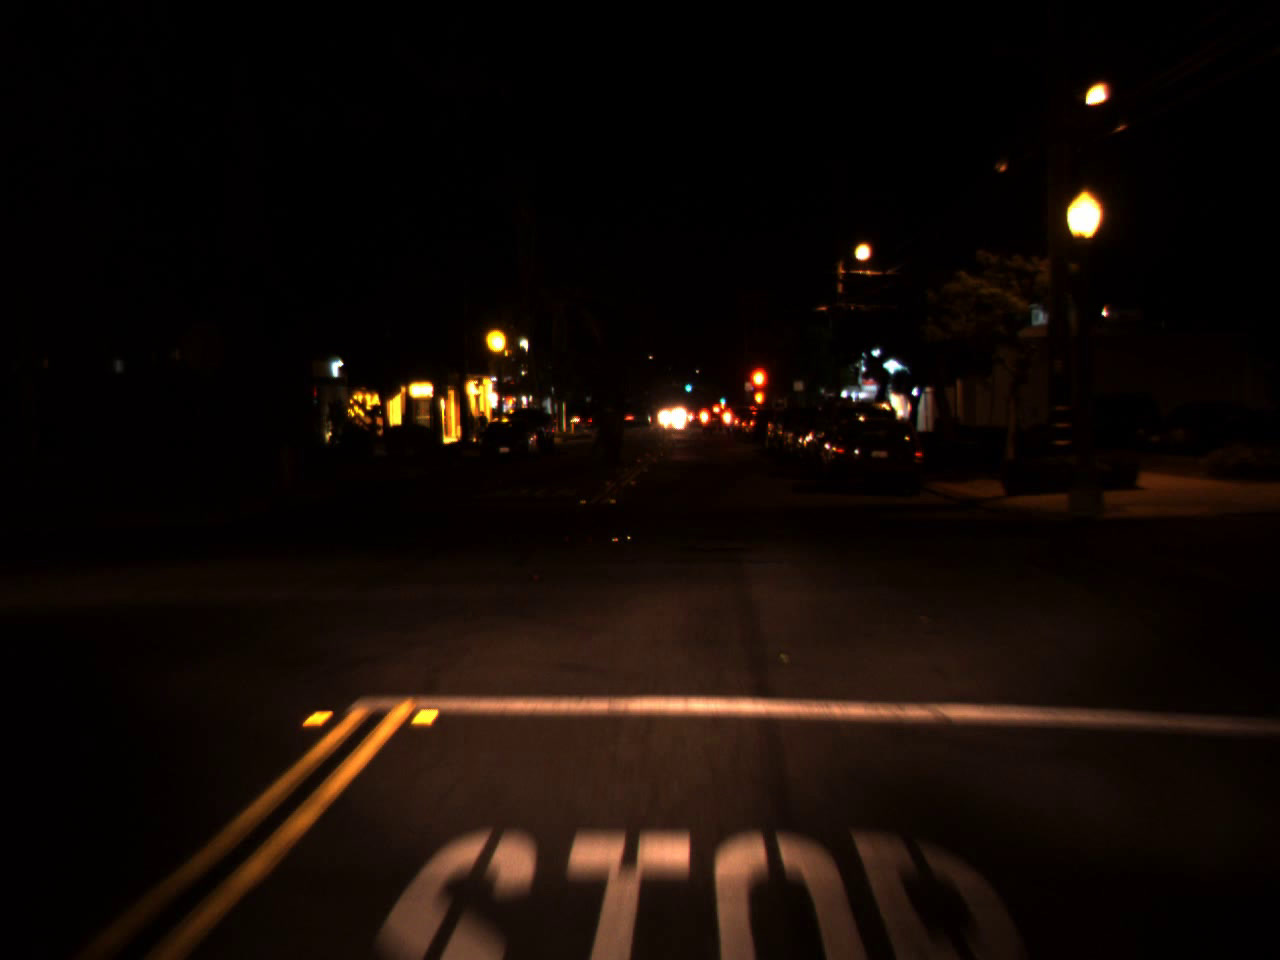go: (683, 377, 692, 392), (717, 390, 726, 405)
stop: (747, 364, 769, 415)
